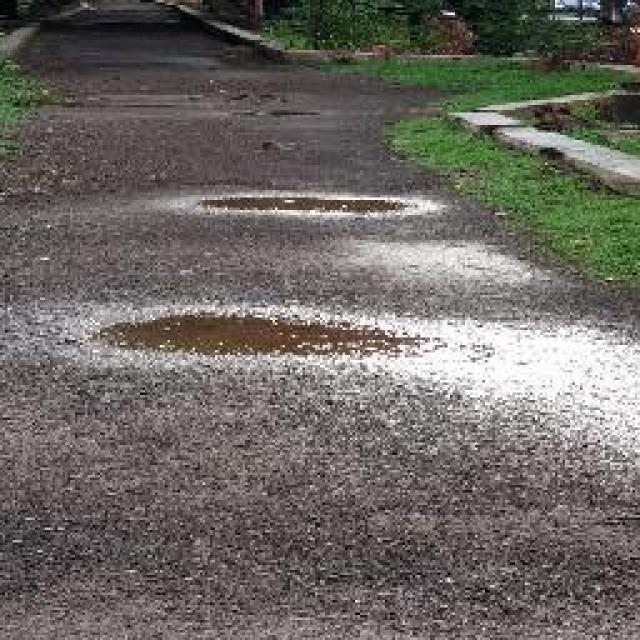stagnation: (126, 294, 432, 376), (210, 174, 454, 228)
